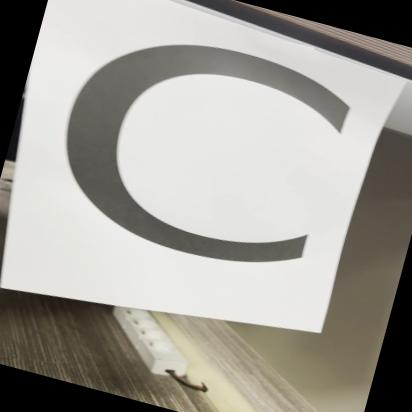seat: (0, 0, 400, 343)
